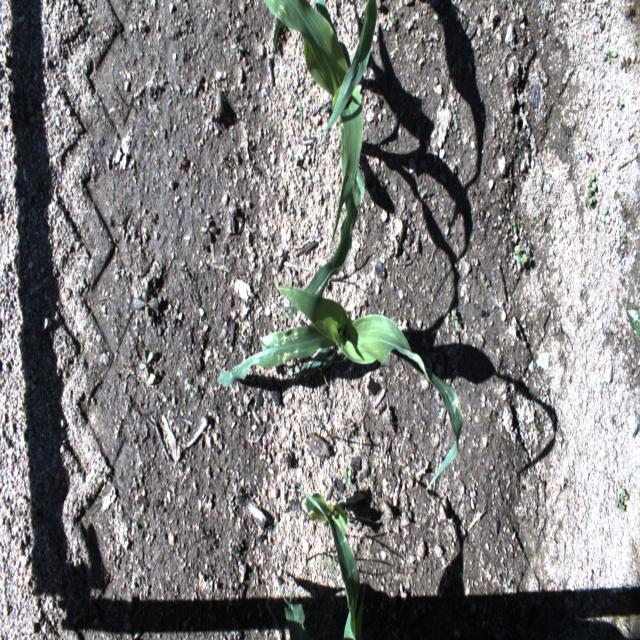crop: (217, 286, 463, 490), (264, 0, 365, 321), (294, 481, 370, 638), (314, 0, 377, 144), (273, 576, 307, 640)
weed: (301, 401, 336, 448), (354, 515, 384, 569), (307, 548, 338, 592), (131, 288, 159, 322), (614, 488, 630, 515), (626, 308, 640, 336), (514, 245, 528, 265), (584, 187, 596, 206), (586, 170, 596, 190), (343, 466, 352, 486), (451, 308, 459, 330), (296, 100, 303, 125), (607, 49, 618, 64), (231, 43, 244, 52), (512, 217, 518, 236), (187, 383, 194, 399), (389, 8, 395, 26), (617, 96, 624, 110), (620, 230, 626, 243), (505, 578, 511, 590)
